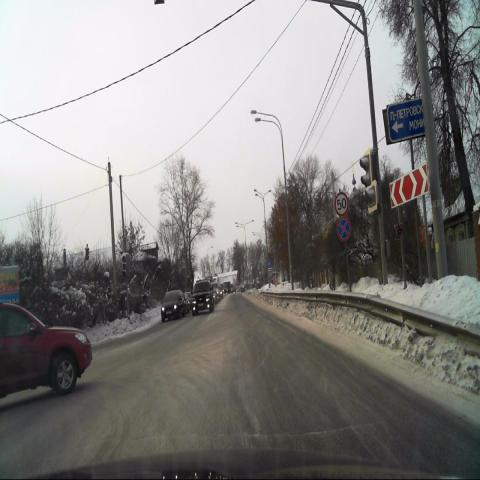3_24: (334, 192, 348, 215)
3_27: (336, 217, 350, 242)
